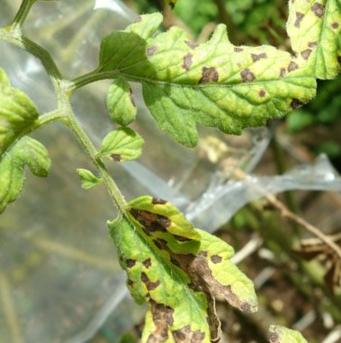Tomato Septoria leaf spot: (68, 0, 330, 211), (42, 167, 282, 343), (0, 77, 83, 230)
